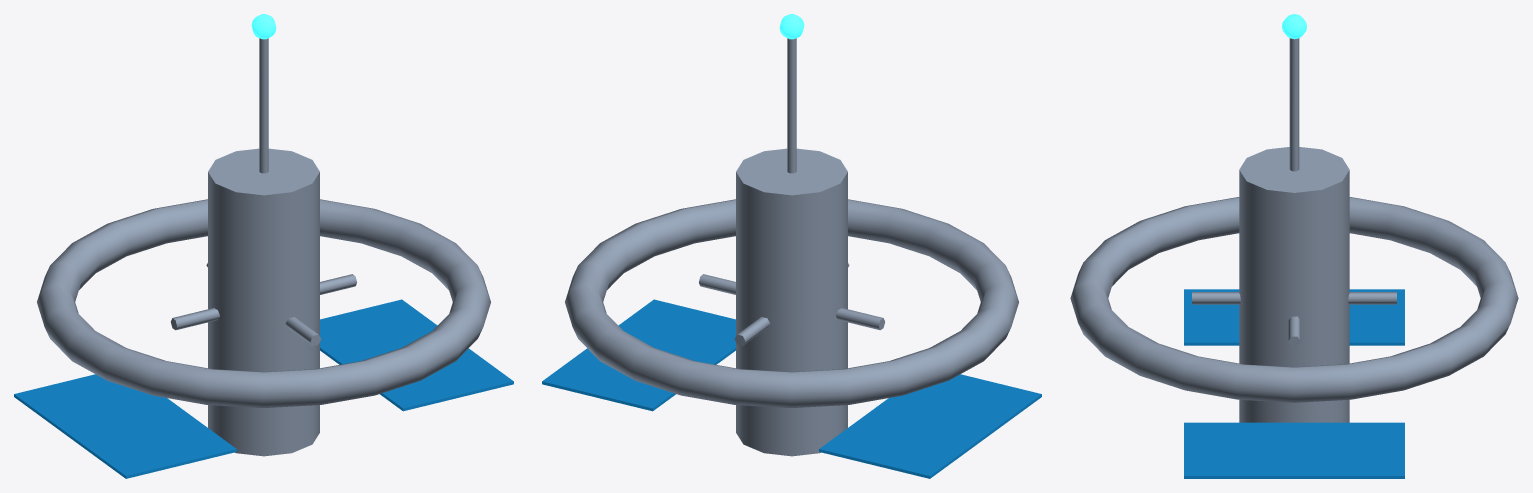
The model's file is skin_station.glb.
3 renders of one model, left to right at view 1: azimuth 30°, elevation 25°; view 2: azimuth 150°, elevation 25°; view 3: azimuth 270°, elevation 25°, orthographic.
Parts seen in each view (by area): view 1: Skin_Station; view 2: Skin_Station; view 3: Skin_Station.
Part boxes in pixels (<box>): Skin_Station: <box>14,14,513,478</box>; Skin_Station: <box>542,14,1041,478</box>; Skin_Station: <box>1070,14,1518,478</box>.
Size of the model in its own units: 2.84 by 2.88 by 2.84.
